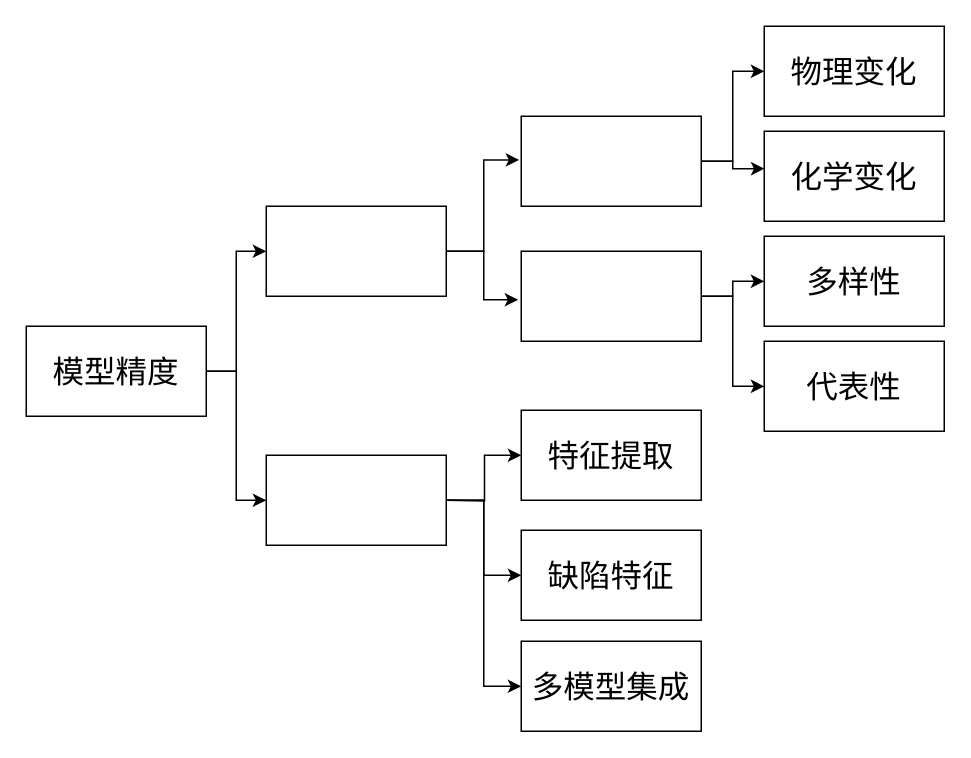
Image size: 971x758. Some labels were removed from this diagram. Each missing label, with the centre of its shape:
"数据" goes at [355,250].
"样本分布" goes at [610,295].
"模型" goes at [355,499].
"缺陷原因" goes at [610,160].
